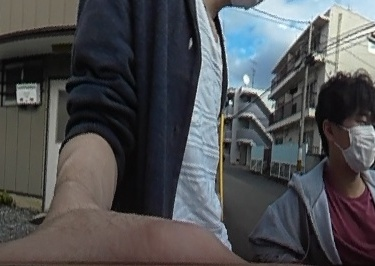person: (259, 76, 375, 266)
